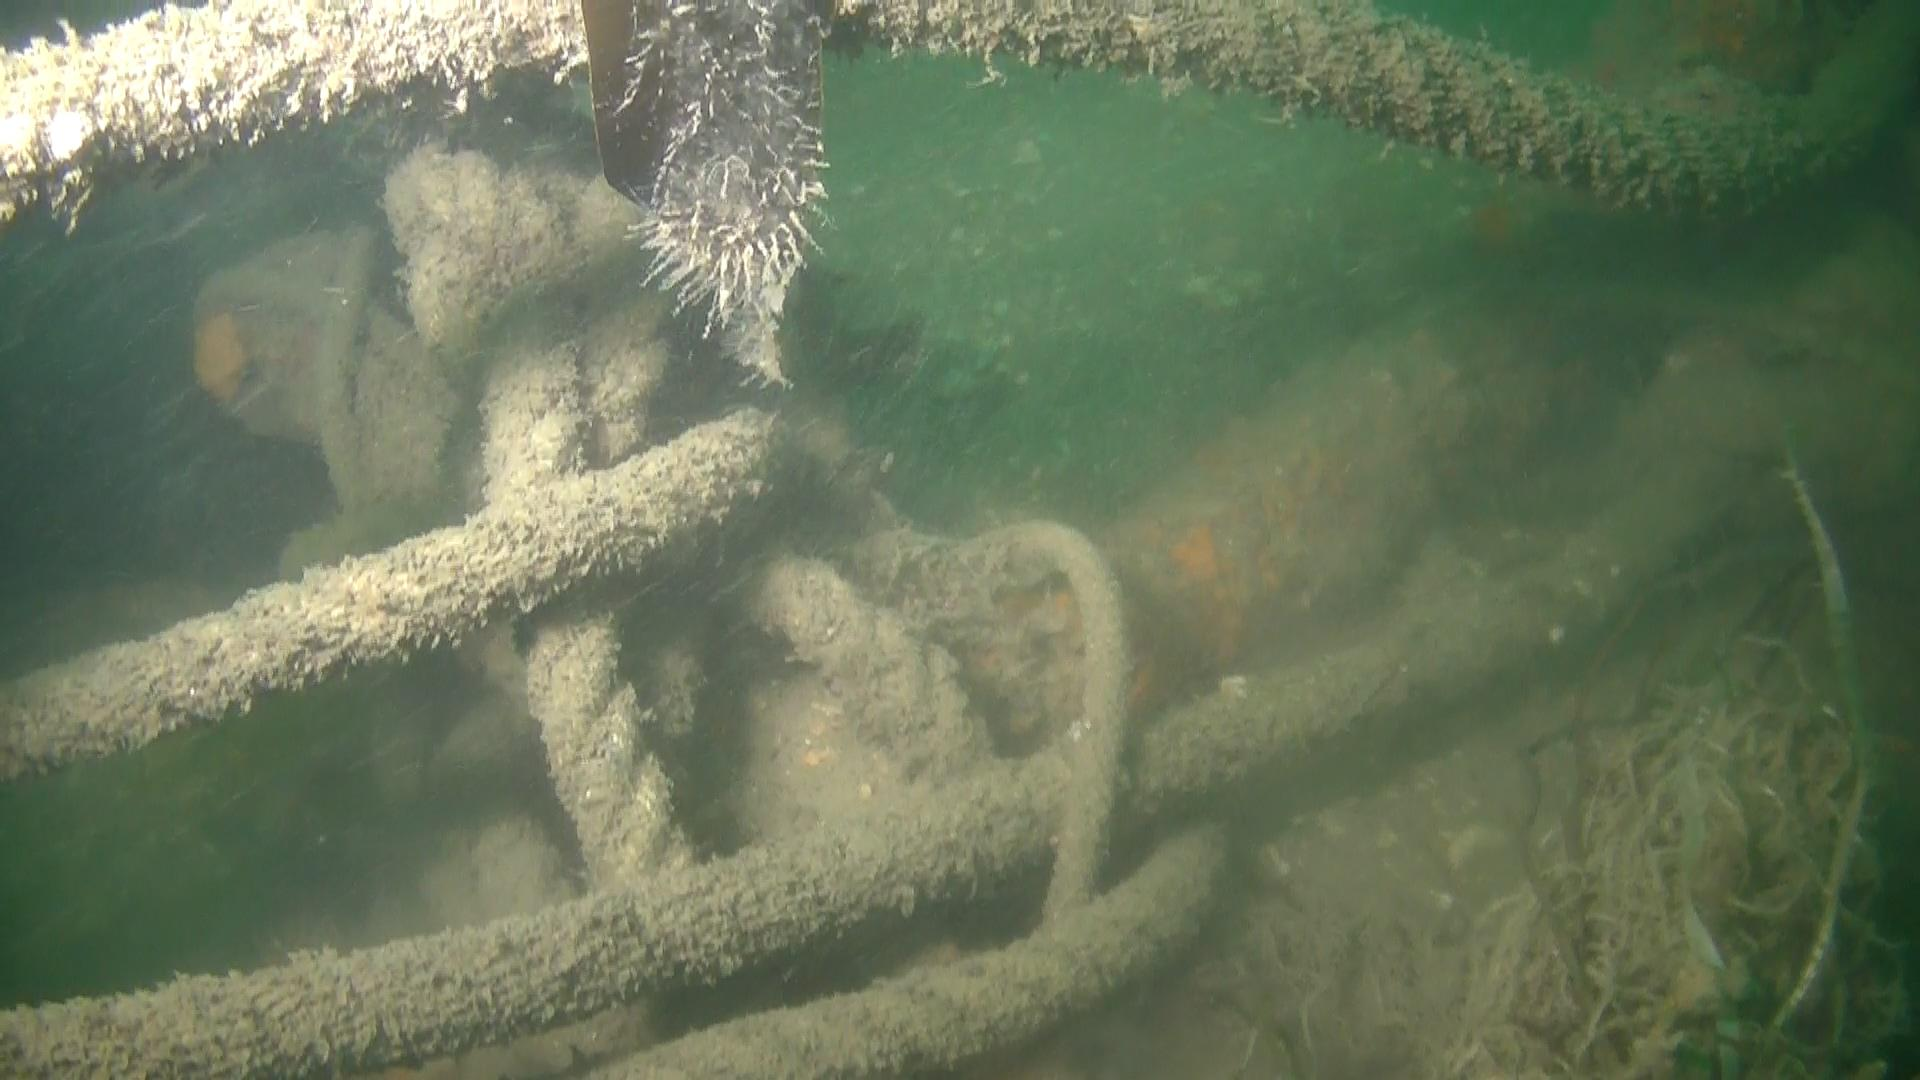bundle of ropes: (0, 0, 1760, 1080)
